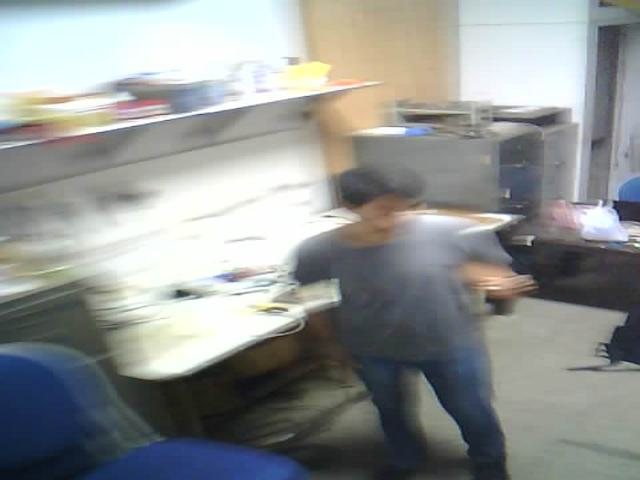person: (259, 131, 528, 480)
